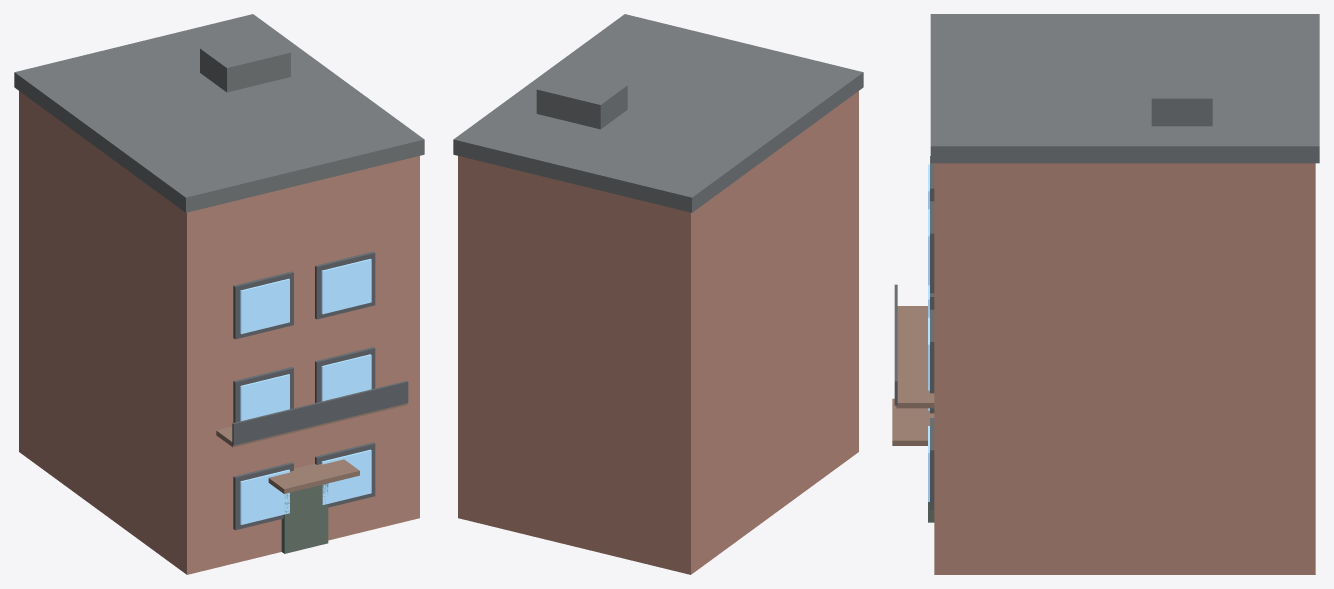
File: building_residential_b.glb
The picture shows the model from 3 angles, left to right: view 1: azimuth 30°, elevation 25°; view 2: azimuth 150°, elevation 25°; view 3: azimuth 270°, elevation 25°; orthographic projection. The views are drawn at different scales.
Visible parts, largest first — view 1: building_residential_b; view 2: building_residential_b; view 3: building_residential_b.
Part boxes in pixels (left/top/right/bottom): building_residential_b: left=14, top=14, right=424, bottom=574; building_residential_b: left=453, top=14, right=863, bottom=574; building_residential_b: left=892, top=14, right=1319, bottom=574.
Size of the model in its own units: 8.2 by 13.25 by 11.2.
